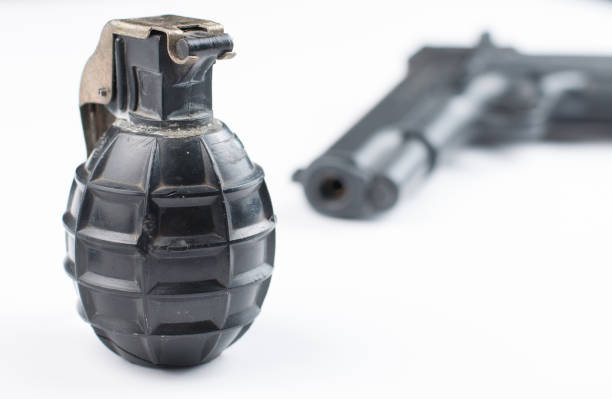e1: (55, 10, 277, 372)
